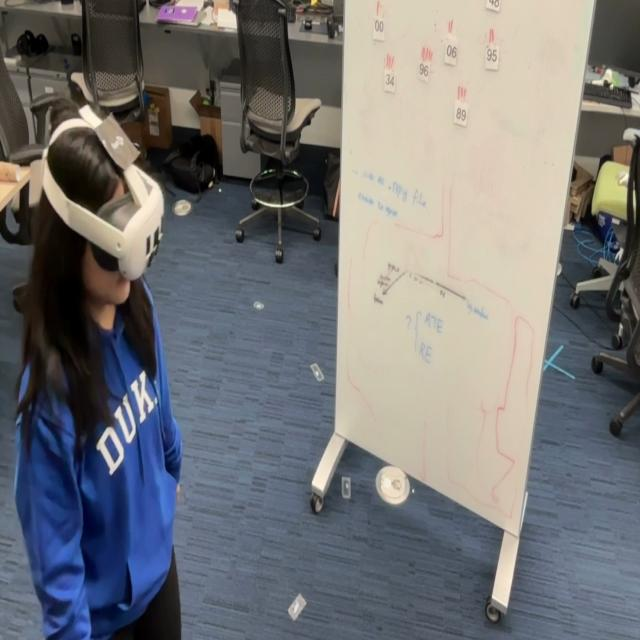Headset: (40, 106, 165, 282)
UnityLogo: (89, 110, 148, 182)
